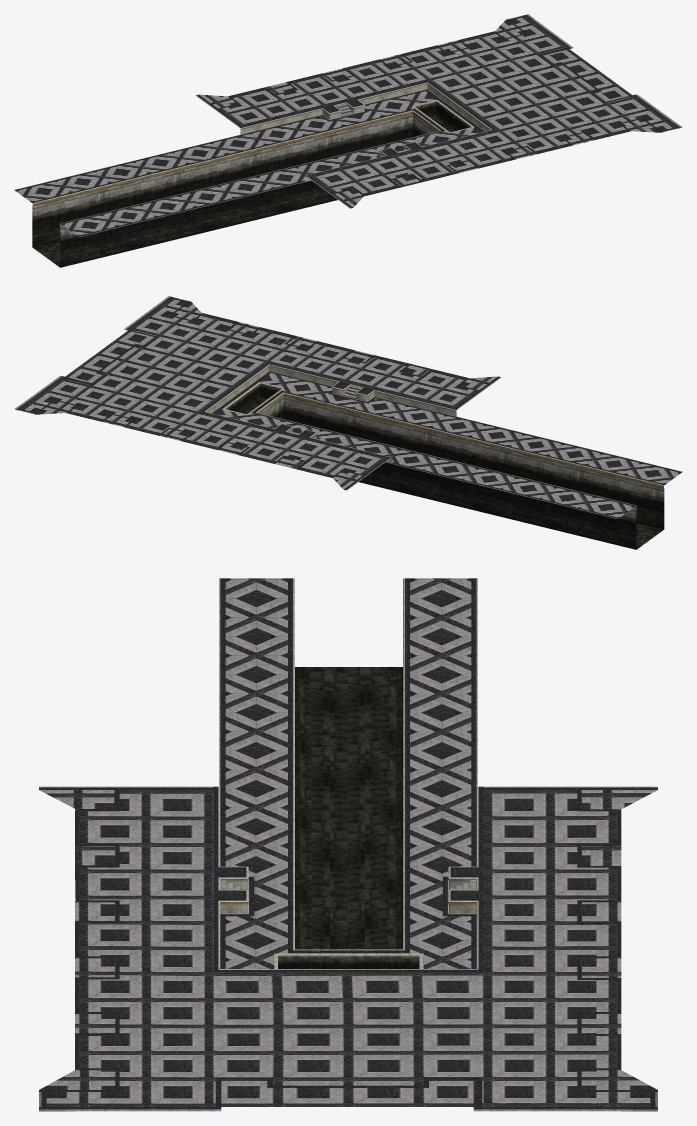
The model's file is KnightCastle_DockRoom_Floor.FBX.
3 views of the same model, one above another, from view 1: azimuth 30°, elevation 25°; view 2: azimuth 150°, elevation 25°; view 3: azimuth 270°, elevation 25° (orthographic). The views are drawn at different scales.
Parts seen in each view (by area): view 1: SM_KnightCastle_DockRoom_Floor; view 2: SM_KnightCastle_DockRoom_Floor; view 3: SM_KnightCastle_DockRoom_Floor.
Boxes of the visible parts, x1,y1,x2,y2 form: SM_KnightCastle_DockRoom_Floor: [14, 14, 682, 267]; SM_KnightCastle_DockRoom_Floor: [14, 296, 682, 549]; SM_KnightCastle_DockRoom_Floor: [39, 578, 657, 1111].
Size of the model in its own units: 4801 by 2300 by 414.
